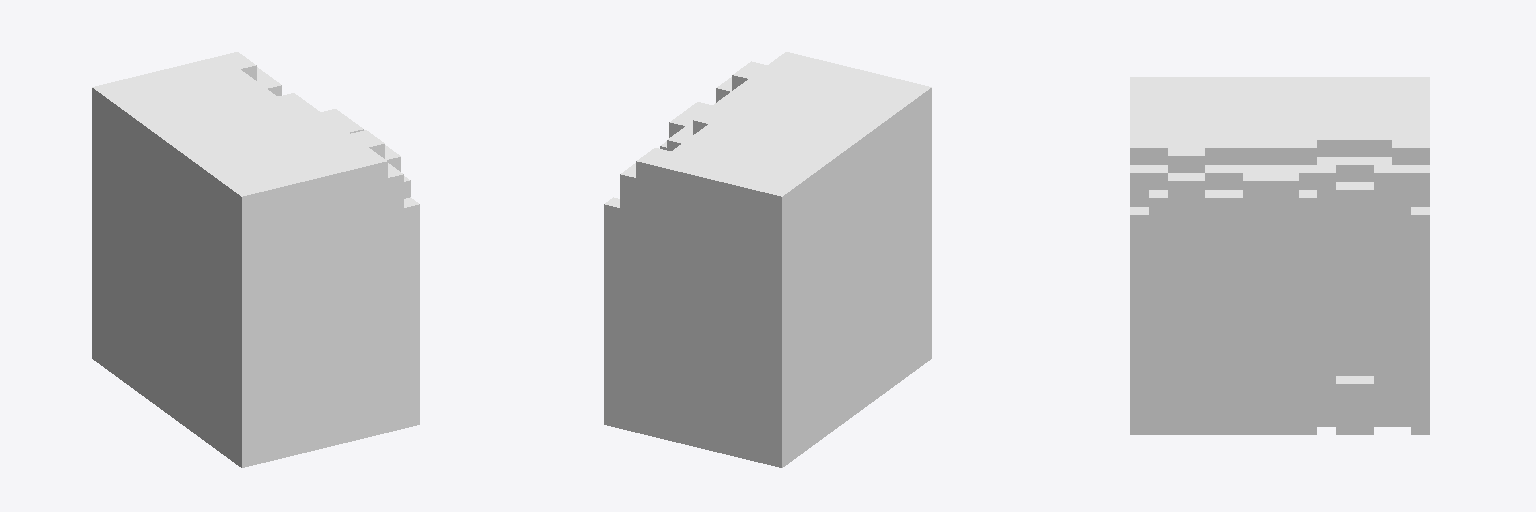
Rendered from stone2.obj.
3 views of the same model, side by side, from view 1: azimuth 30°, elevation 25°; view 2: azimuth 150°, elevation 25°; view 3: azimuth 270°, elevation 25° (orthographic).
Bounding box in the file's own units: 11 × 16 × 16.